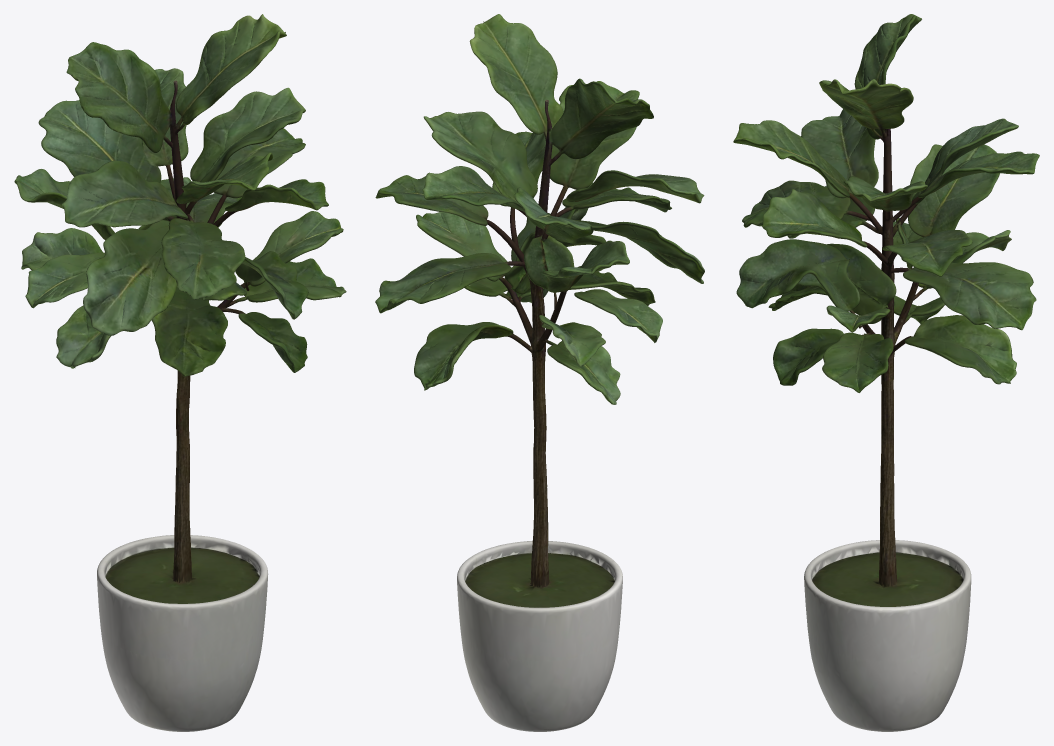
File: ficus.glb
3 renders of one model, left to right at view 1: azimuth 30°, elevation 25°; view 2: azimuth 150°, elevation 25°; view 3: azimuth 270°, elevation 25°, orthographic. The views are drawn at different scales.
Visible parts, largest first — view 1: tripo_node_16438853-1815-4126-a8d4-14f61ab3cfb3; view 2: tripo_node_16438853-1815-4126-a8d4-14f61ab3cfb3; view 3: tripo_node_16438853-1815-4126-a8d4-14f61ab3cfb3.
Boxes of the visible parts, box(x1,y1,x2,y2) form: tripo_node_16438853-1815-4126-a8d4-14f61ab3cfb3: box(14, 14, 346, 731); tripo_node_16438853-1815-4126-a8d4-14f61ab3cfb3: box(375, 14, 704, 731); tripo_node_16438853-1815-4126-a8d4-14f61ab3cfb3: box(733, 14, 1039, 731).
Bounding box in the file's own units: 0.4296 × 0.9856 × 0.4114.
1 material, 1 textured.
